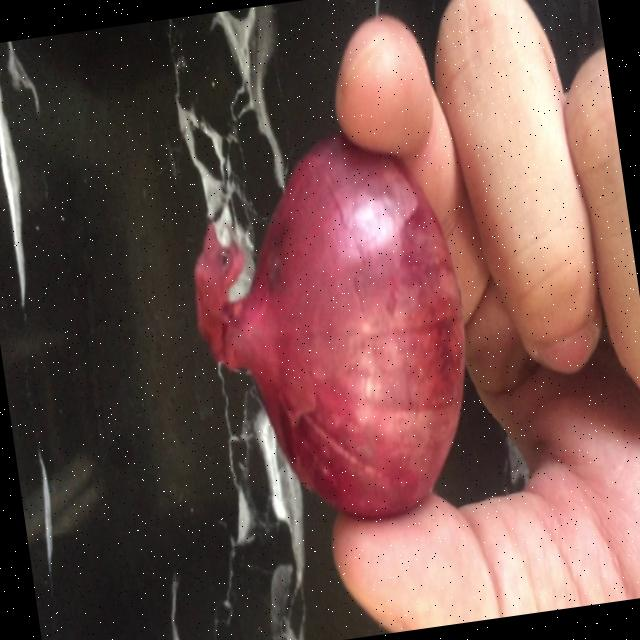Onion: (195, 134, 465, 518)
